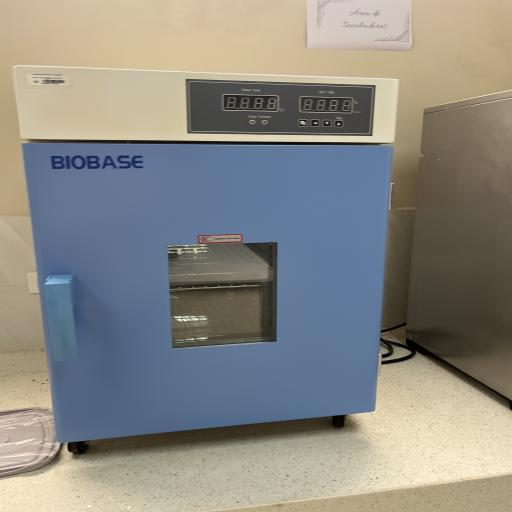Horno_Secado_Biobase: (0, 52, 407, 464)
